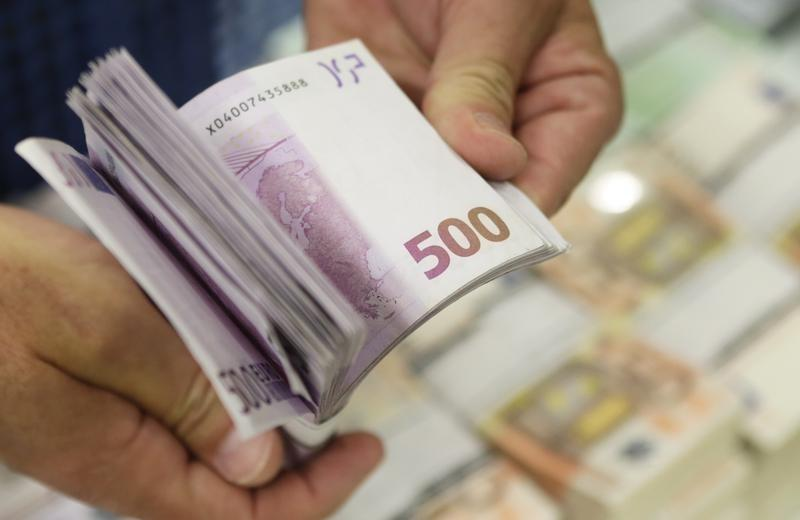billete: (10, 37, 577, 478)
